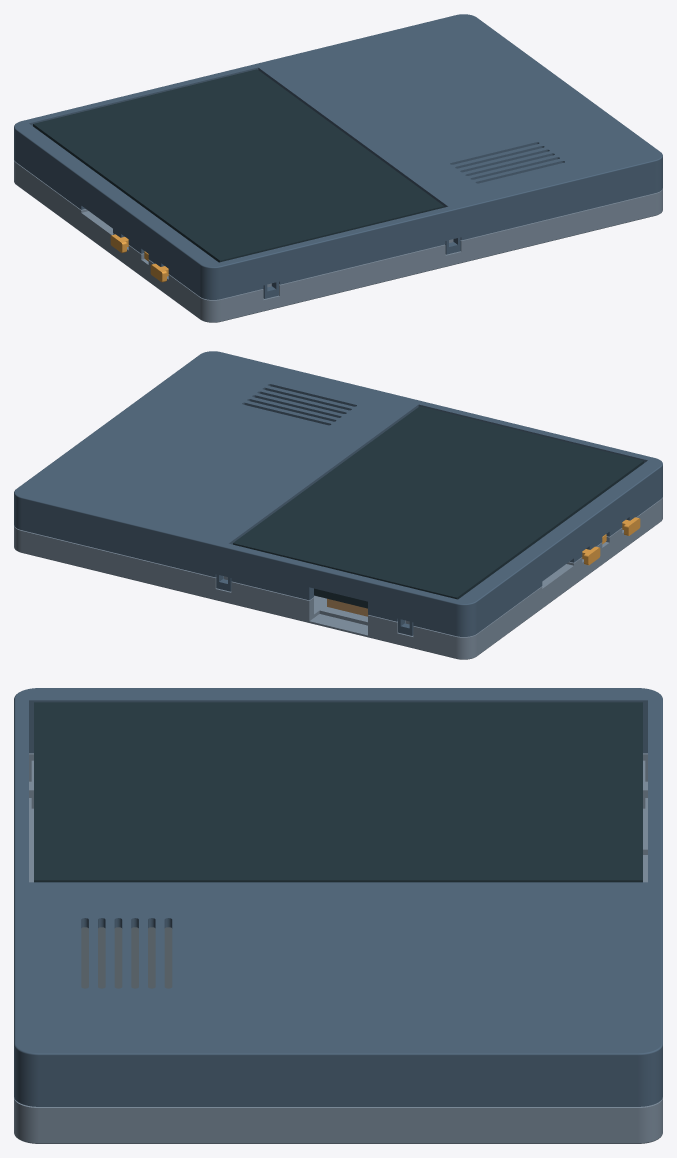
The model's file is assembly_light.glb.
3 views of the same model, one above another, from view 1: azimuth 30°, elevation 25°; view 2: azimuth 150°, elevation 25°; view 3: azimuth 270°, elevation 25° (orthographic). The views are drawn at different scales.
Parts seen in each view (by area): view 1: FRONT_T0_FLUSH, DISPLAY_ENVELOPE_NOT_DETAIL, REAR_T0_1_2mm; view 2: FRONT_T0_FLUSH, DISPLAY_ENVELOPE_NOT_DETAIL, REAR_T0_1_2mm; view 3: FRONT_T0_FLUSH, DISPLAY_ENVELOPE_NOT_DETAIL, REAR_T0_1_2mm, SPEAKER_UNVERIFIED.
Boxes of the visible parts, x1=… form: FRONT_T0_FLUSH: x1=14, y1=14, x2=662, y2=299; DISPLAY_ENVELOPE_NOT_DETAIL: x1=33, y1=69, x2=443, y2=262; REAR_T0_1_2mm: x1=14, y1=160, x2=662, y2=322; FRONT_T0_FLUSH: x1=14, y1=351, x2=662, y2=636; DISPLAY_ENVELOPE_NOT_DETAIL: x1=233, y1=406, x2=643, y2=608; REAR_T0_1_2mm: x1=14, y1=497, x2=662, y2=659; FRONT_T0_FLUSH: x1=14, y1=688, x2=662, y2=1106; DISPLAY_ENVELOPE_NOT_DETAIL: x1=34, y1=702, x2=642, y2=882; REAR_T0_1_2mm: x1=14, y1=753, x2=662, y2=1143; SPEAKER_UNVERIFIED: x1=81, y1=927, x2=172, y2=988.
Bounding box in the file's own units: 0.1059 × 0.012 × 0.0779.
